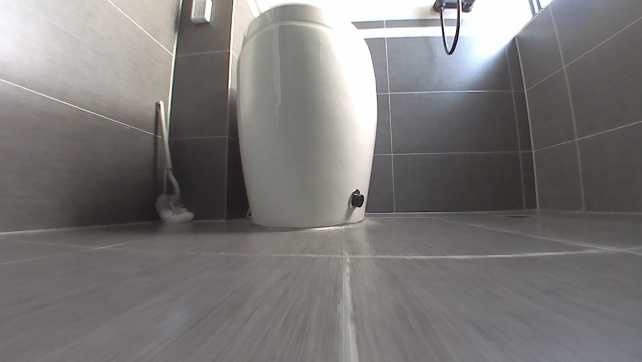toilet: (233, 4, 381, 225)
